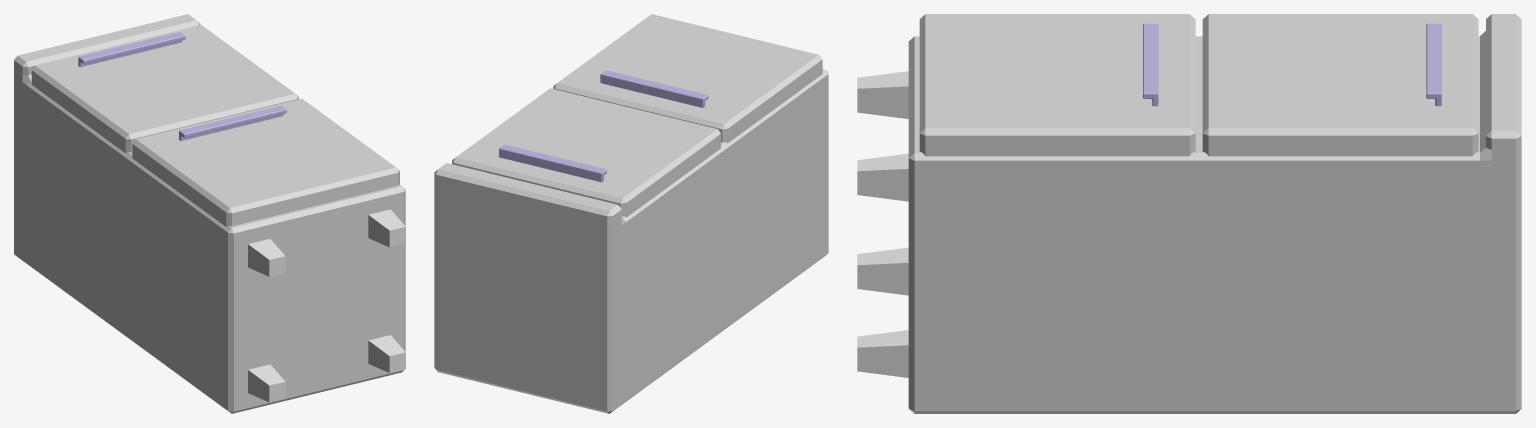
The model's file is Cabinet.fbx.
The picture shows the model from 3 angles, left to right: view 1: azimuth 30°, elevation 25°; view 2: azimuth 150°, elevation 25°; view 3: azimuth 270°, elevation 25°; orthographic projection. The views are drawn at different scales.
Parts seen in each view (by area): view 1: Cabinet; view 2: Cabinet; view 3: Cabinet.
Boxes of the visible parts, left/top/right/bottom form: Cabinet: left=14, top=14, right=405, bottom=413; Cabinet: left=434, top=14, right=828, bottom=413; Cabinet: left=857, top=14, right=1521, bottom=413.
Size of the model in its own units: 200 by 228 by 461.
